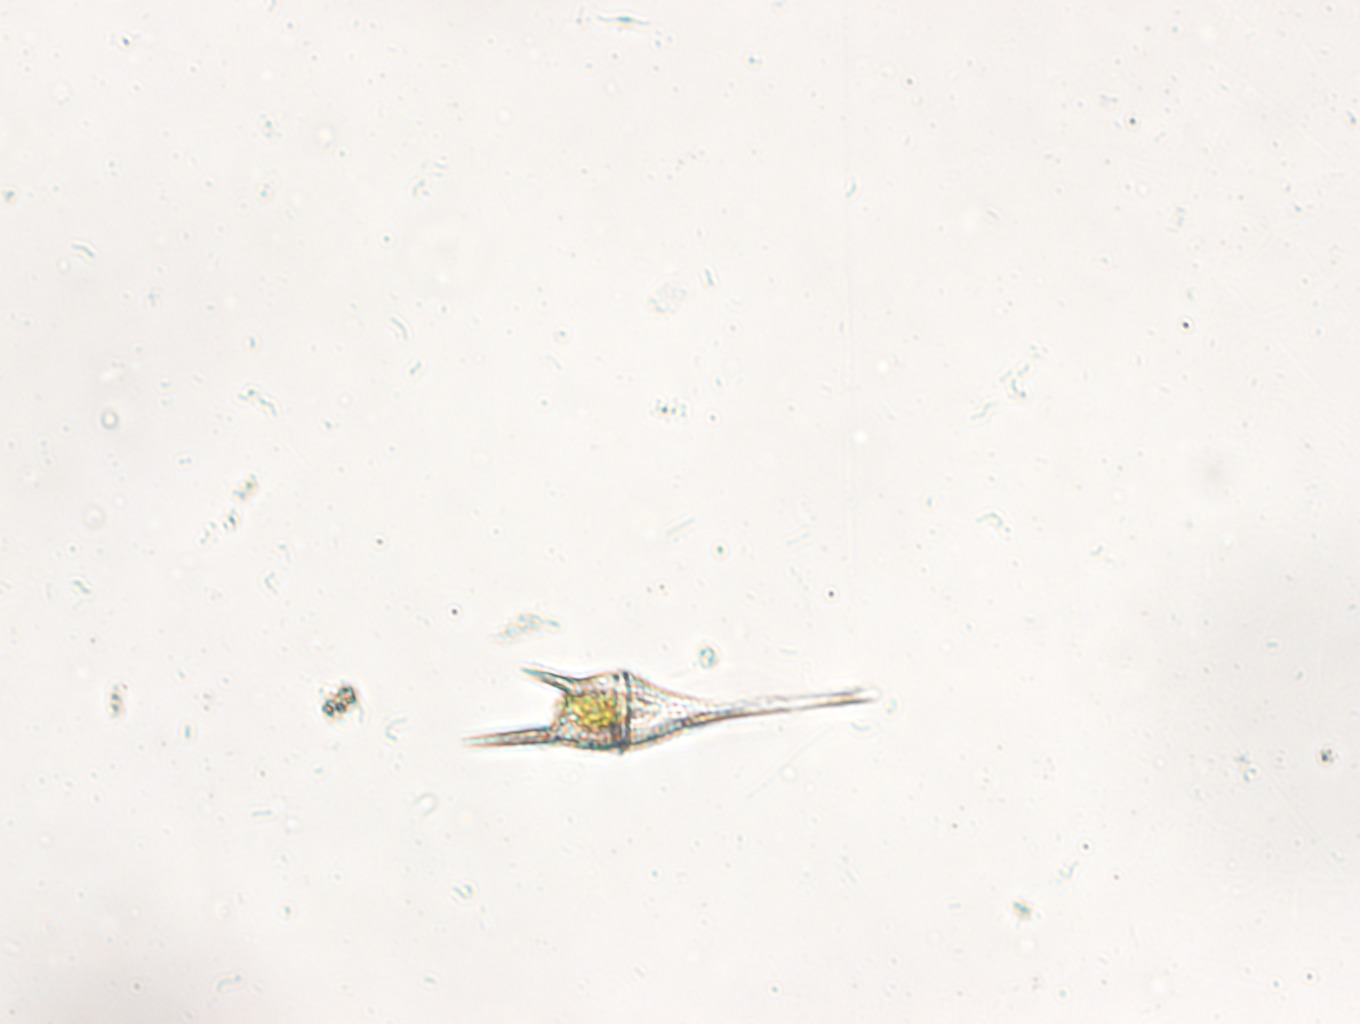ceratium furca: (462, 650, 875, 764)
